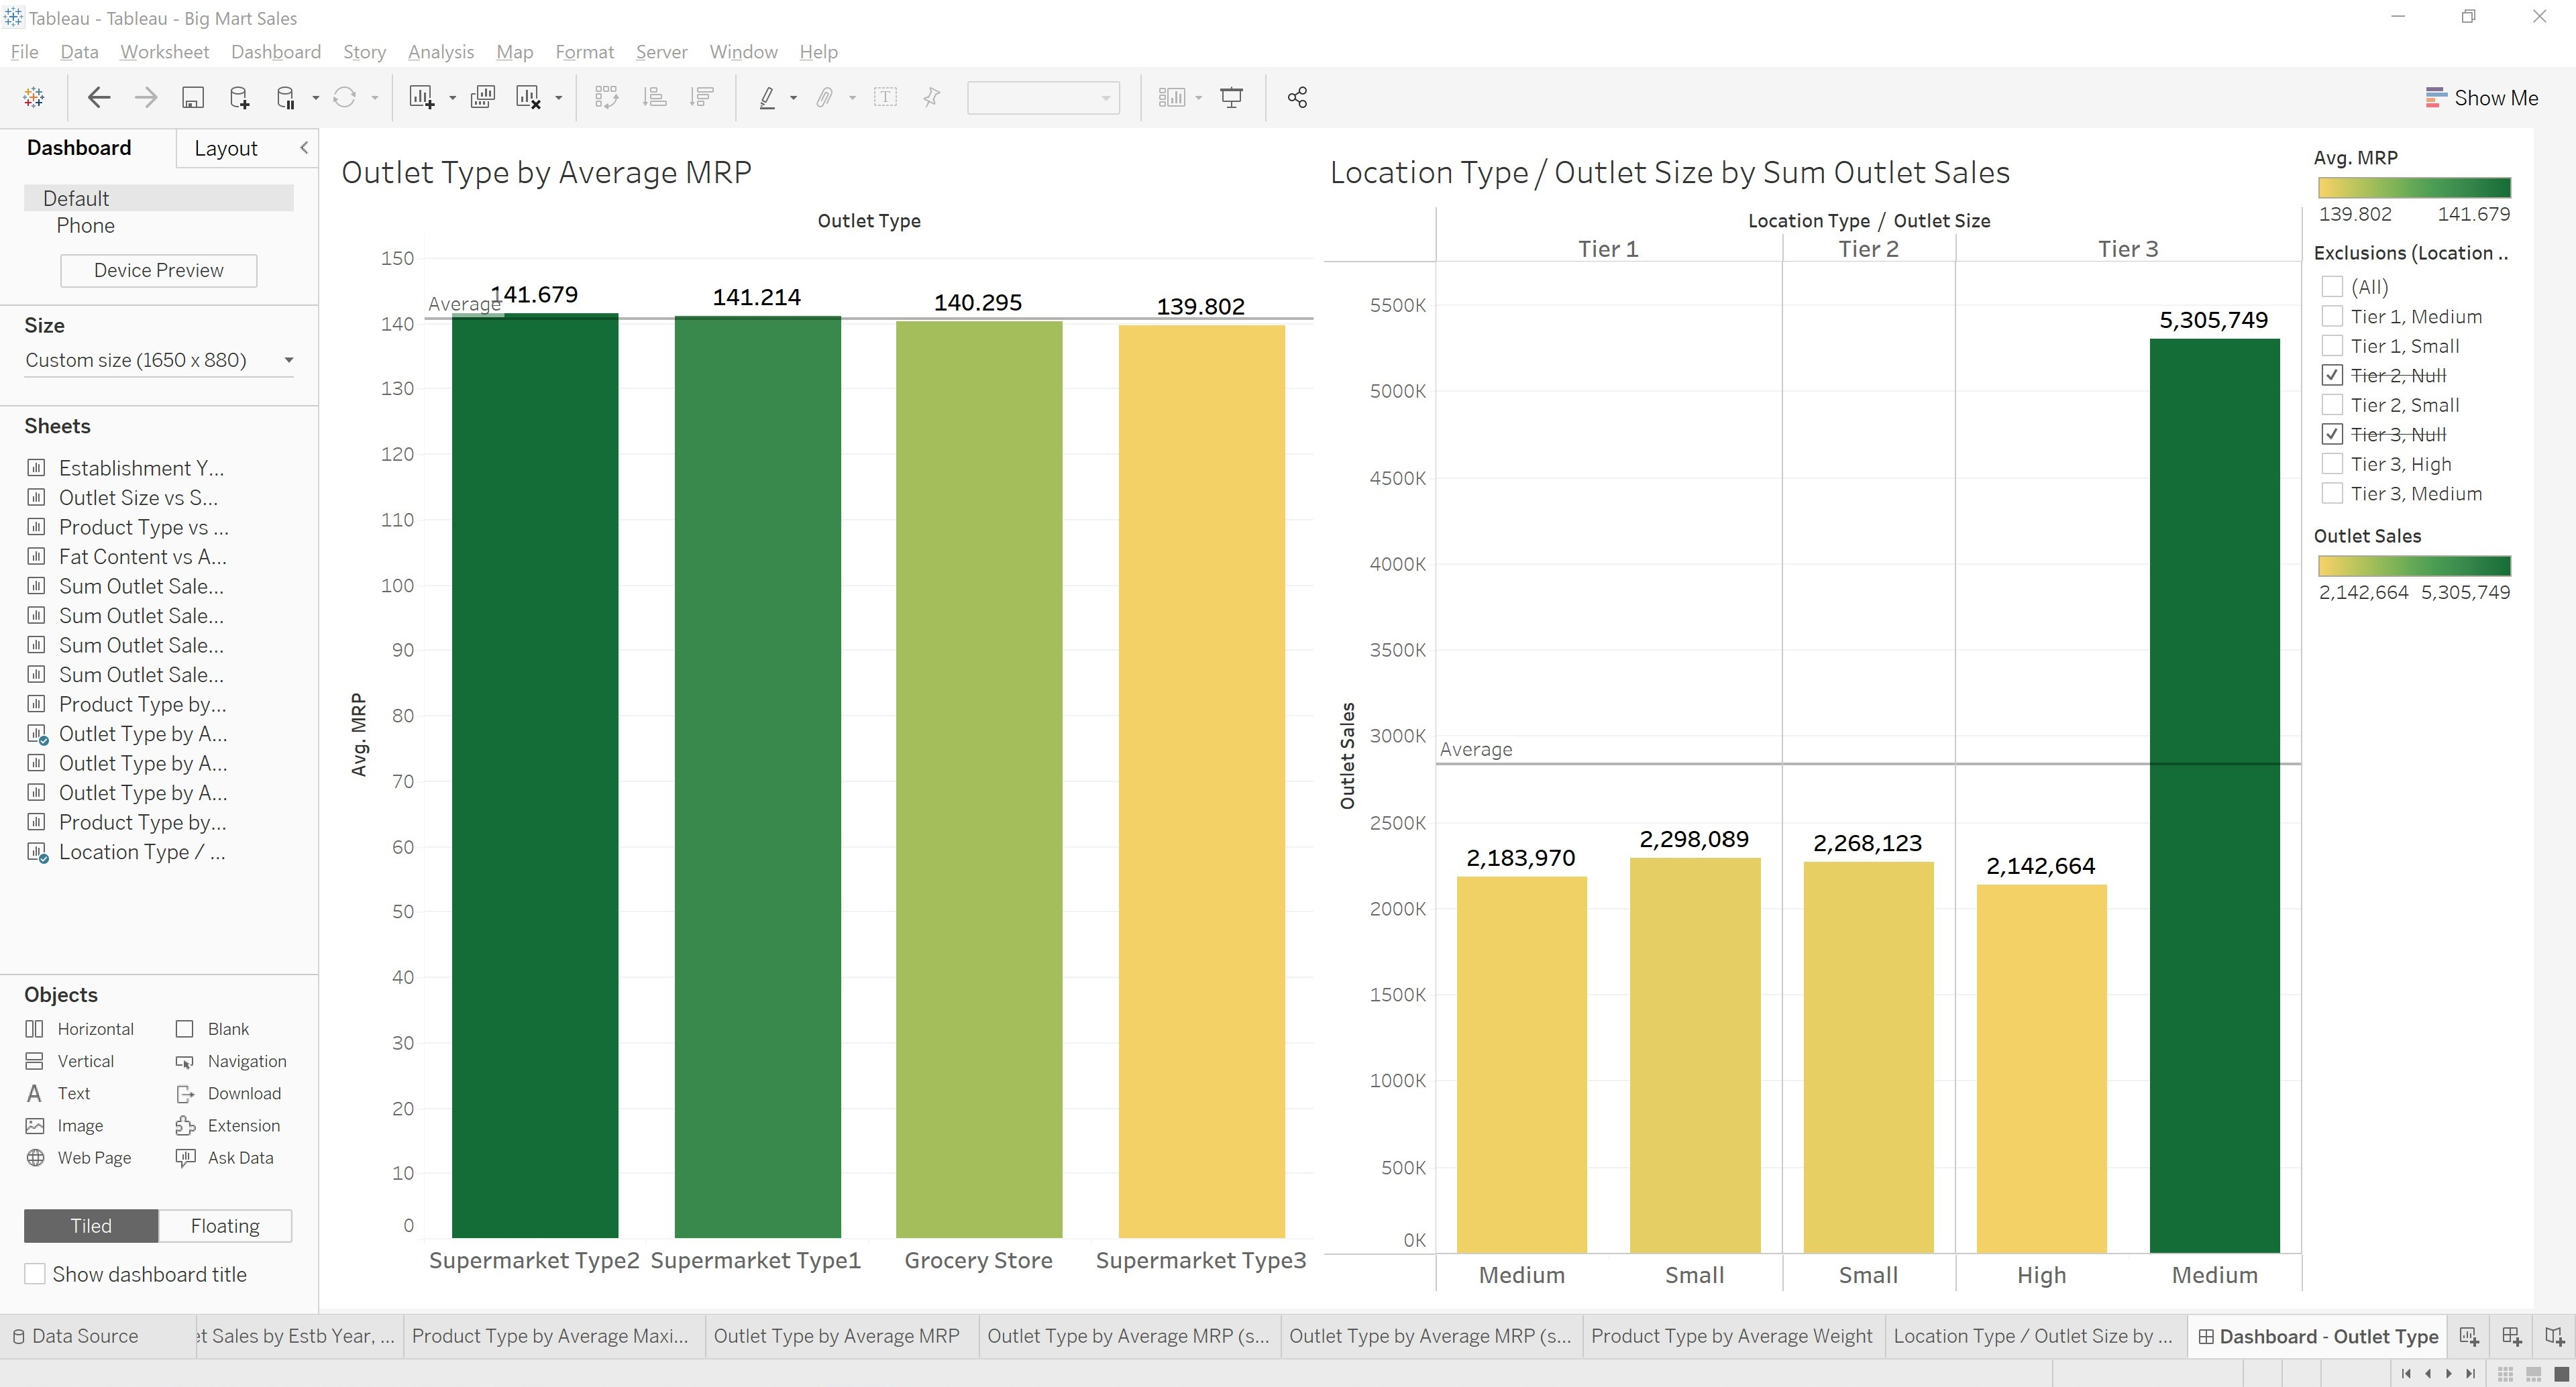

This screenshot's page, from the dashboard's own definition file:
{"tool":"tableau","page":{"name":"Dashboard - Outlet Type","canvas":[1650,880],"ordinal":0},"visuals":[{"type":"worksheet","title":"Outlet Type by Average MRP","mark":"Automatic","rows":["MRP"],"cols":["OutletType"],"box":[8,8,736.9,864]},{"type":"worksheet","title":"Location Type / Outlet Size by Sum Outlet Sales","mark":"Automatic","rows":["OutletSales"],"cols":["LocationType","OutletSize"],"box":[744.9,8,737.1,864]},{"type":"legend","title":"Outlet Type by Average MRP","param":"[federated.04nvx7g1tpnqz512rx5cq09d1qcu].[avg:MRP:qk]","box":[1482,8,160,71]},{"type":"filter","title":"Location Type / Outlet Size by Sum Outlet Sales","param":"[federated.04nvx7g1tpnqz512rx5cq09d1qcu].[Exclusions (Location Type,Outlet Size)","box":[1482,79,160,211]},{"type":"legend","title":"Location Type / Outlet Size by Sum Outlet Sales","param":"[federated.04nvx7g1tpnqz512rx5cq09d1qcu].[sum:OutletSales:qk]","box":[1482,290,160,71]}]}

Visuals, with their boxes on the page's 1650x880 design canvas (x1, y1, x2, y2). These are canvas units, not pixel positions in the 2576x1387 screenshot, which may show the page scaled, cropped or inside an application window:
"Outlet Type by Average MRP" worksheet: (x1=8, y1=8, x2=745, y2=872)
"Location Type / Outlet Size by Sum Outlet Sales" worksheet: (x1=745, y1=8, x2=1482, y2=872)
"Outlet Type by Average MRP" legend: (x1=1482, y1=8, x2=1642, y2=79)
"Location Type / Outlet Size by Sum Outlet Sales" filter: (x1=1482, y1=79, x2=1642, y2=290)
"Location Type / Outlet Size by Sum Outlet Sales" legend: (x1=1482, y1=290, x2=1642, y2=361)
